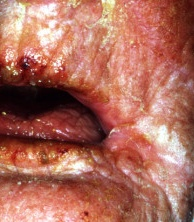SJS-TEN: (0, 45, 155, 182)
